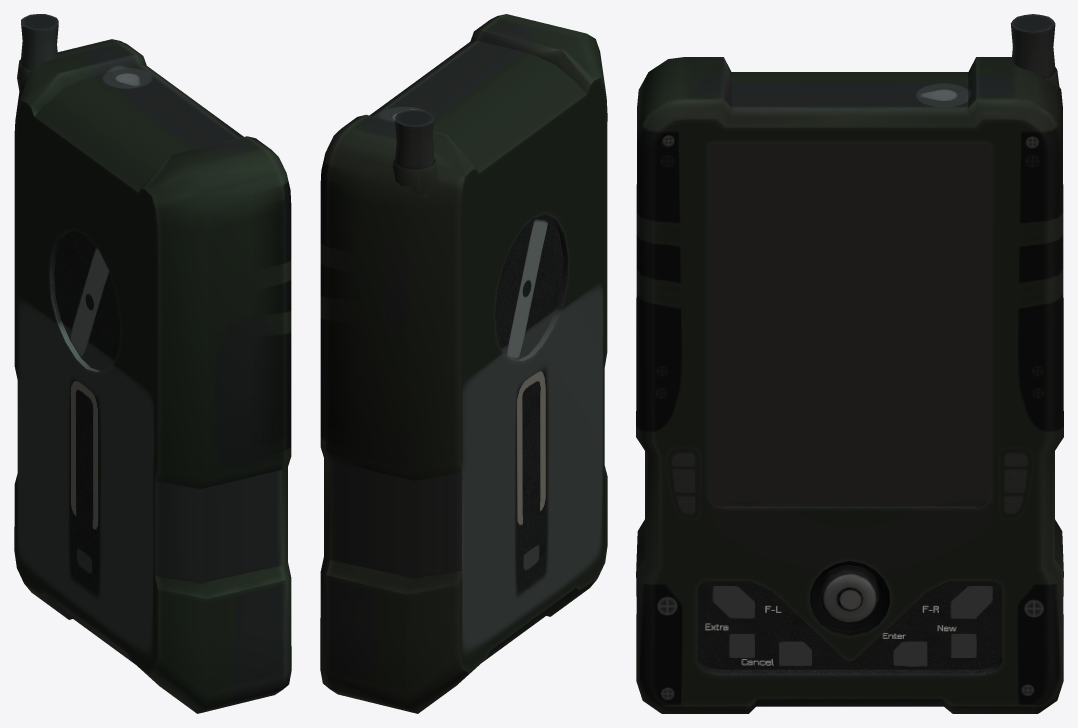
Rendered from PDA.gltf.
The picture shows the model from 3 angles, left to right: view 1: azimuth 30°, elevation 25°; view 2: azimuth 150°, elevation 25°; view 3: azimuth 270°, elevation 25°; orthographic projection. The views are drawn at different scales.
Visible parts, largest first — view 1: PDA; view 2: PDA; view 3: PDA.
Part boxes in pixels (x1,y1,x2,y2): PDA: (14, 14, 291, 713); PDA: (320, 14, 607, 713); PDA: (636, 14, 1063, 713).
Size of the model in its own units: 0.0762 by 0.3481 by 0.2075.
Materials: 1 (1 with a texture image).
